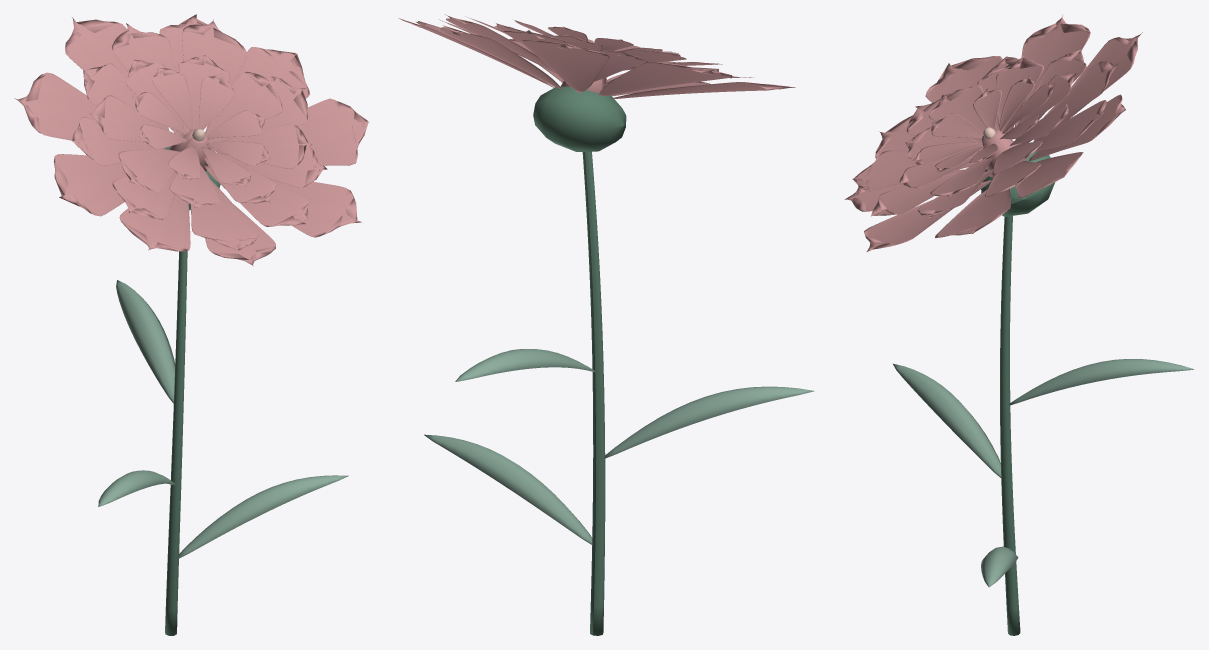
Rendered from carnation-fine-v2.glb.
The picture shows the model from 3 angles, left to right: view 1: azimuth 30°, elevation 25°; view 2: azimuth 150°, elevation 25°; view 3: azimuth 270°, elevation 25°; orthographic projection. The views are drawn at different scales.
Parts seen in each view (by area): view 1: carnation-fine-v2-petal, carnation-fine-v2-leaf, carnation-fine-v2-stem; view 2: carnation-fine-v2-petal, carnation-fine-v2-stem, carnation-fine-v2-leaf; view 3: carnation-fine-v2-petal, carnation-fine-v2-leaf, carnation-fine-v2-stem.
Part boxes in pixels (x1,y1,x2,y2): carnation-fine-v2-petal: (14, 14, 369, 266); carnation-fine-v2-leaf: (98, 280, 348, 558); carnation-fine-v2-stem: (164, 146, 220, 635); carnation-fine-v2-petal: (399, 14, 795, 98); carnation-fine-v2-stem: (533, 86, 626, 635); carnation-fine-v2-leaf: (424, 349, 814, 544); carnation-fine-v2-petal: (844, 15, 1142, 251); carnation-fine-v2-leaf: (893, 359, 1194, 587); carnation-fine-v2-stem: (981, 151, 1055, 635).
Bounding box in the file's own units: 1.02 × 1.74 × 0.9495.
